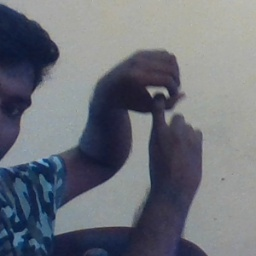Q: (105, 46, 211, 181)
